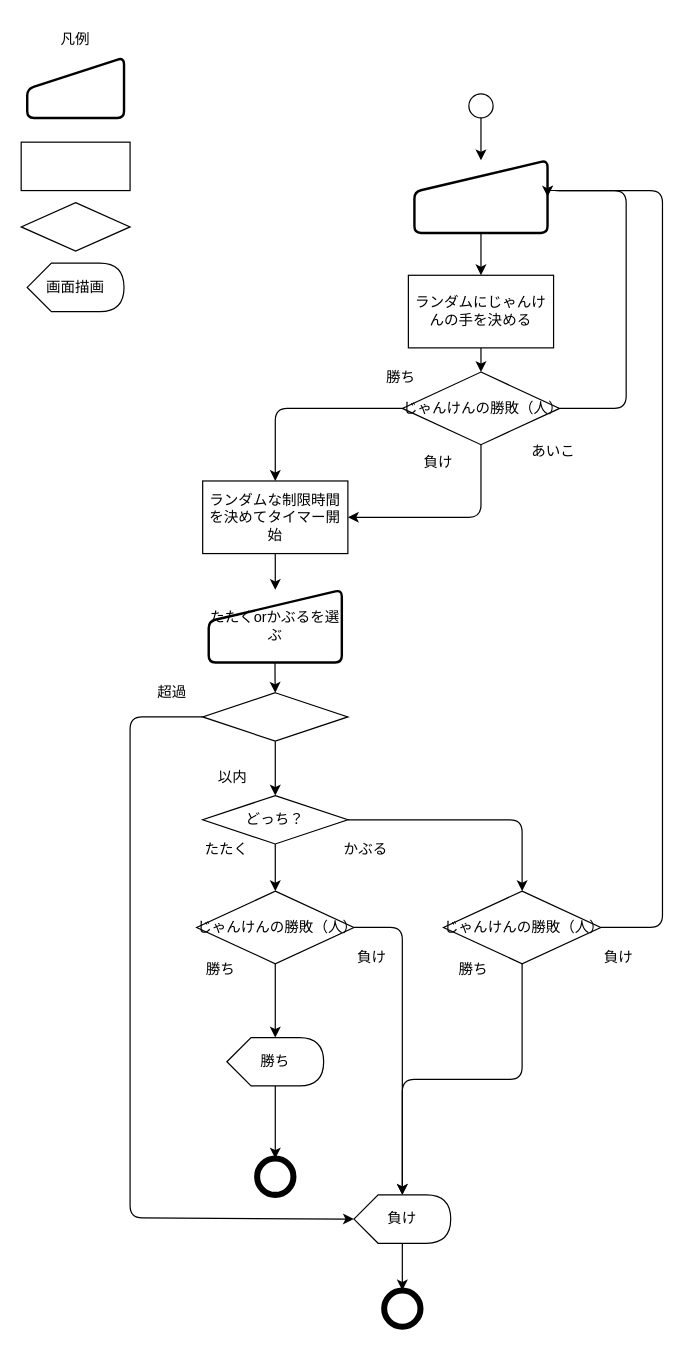
Some shapes in this 693 by 1350 pixel diagram are drawn without their labels. The shapes that lost their labels are listed below. From the top down, each one's centre as x and y in pixels, then its label:
the point at 75,87: 人のプロセス
the point at 75,166: コンピューターのプロセス
the point at 480,196: じゃんけんの手を選ぶ
the point at 75,226: 分岐
the point at 274,716: 制限時間内に選べた？
